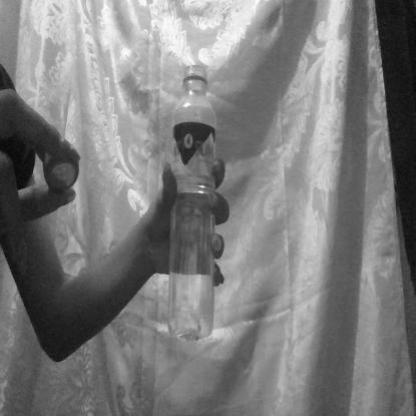Plastic Bottle: (141, 29, 246, 363)
